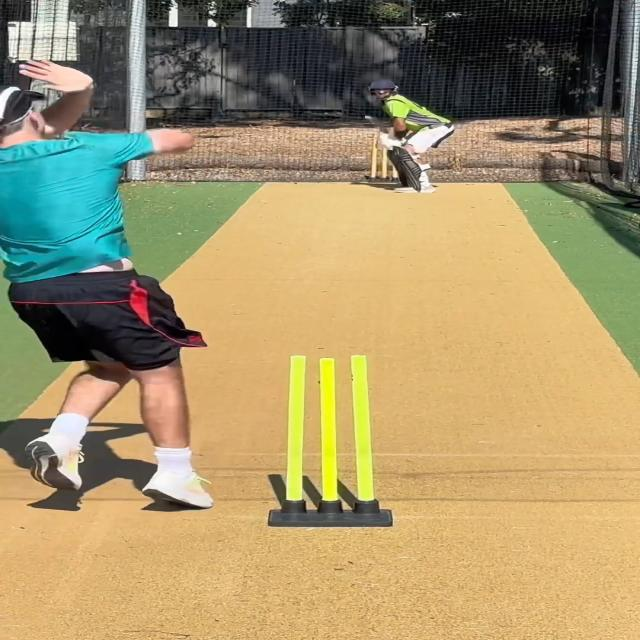stump: (264, 352, 396, 528)
